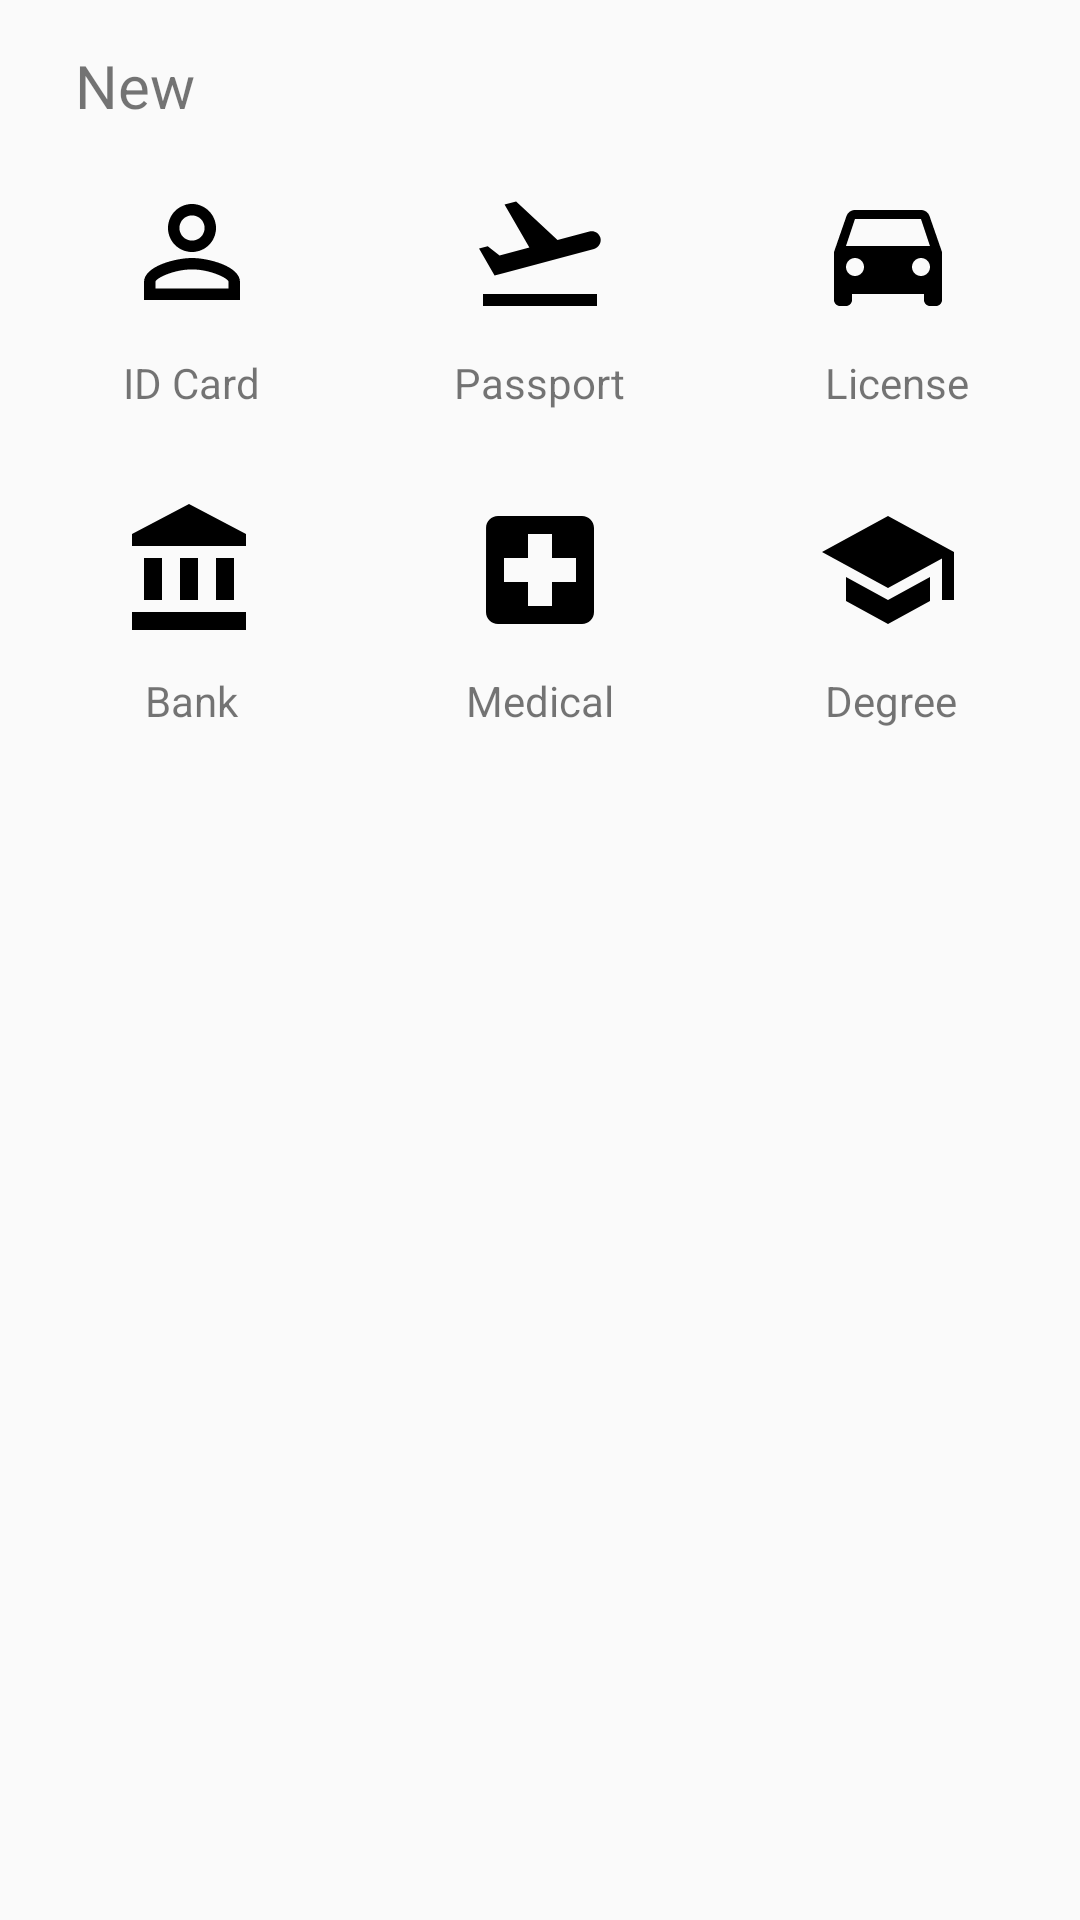

Locate icon controls on the screen. Image size 1080w x 1920h, boxes as [left=x1, top=y1, right=x2, bottom=y2].
Identity Card: [left=144, top=204, right=240, bottom=300]
